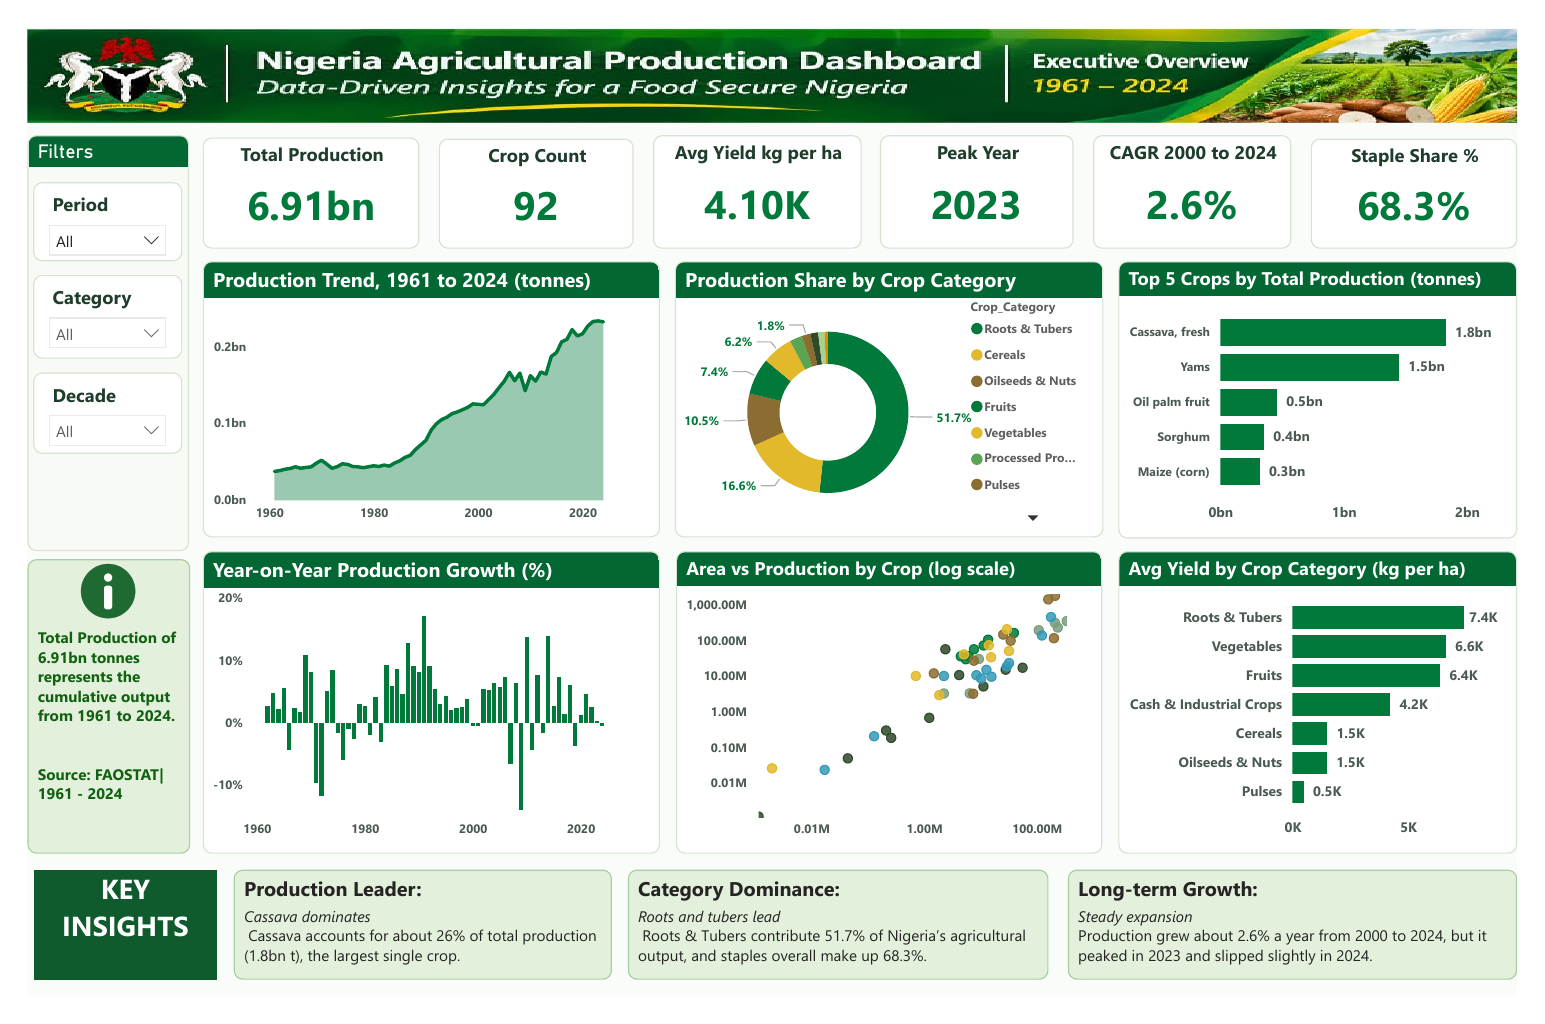

The dashboard page shown, as its layout file describes it:
{"tool":"powerbi","page":{"name":"Executive Overview","canvas":[1300,845],"ordinal":0},"visuals":[{"type":"card","title":"Total Production","fields":{"Values":["_Measures.Total Production"]},"box":[152.7,95.5,189.3,97],"z":0},{"type":"card","title":"Crop Count","fields":{"Values":["_Measures.Crop Count"]},"box":[358.9,97.1,170.2,95.4],"z":1000},{"type":"card","title":"Avg Yield kg per ha","fields":{"Values":["_Measures.Avg Yield kg per ha"]},"box":[546,93.5,181.5,99],"z":2000},{"type":"card","title":"Peak Year","fields":{"Values":["_Measures.Peak Year"]},"box":[744.5,93.9,168.6,98.6],"z":3000},{"type":"card","title":"Staple Share %","fields":{"Values":["_Measures.Staple Share %"]},"box":[1120.3,97.2,179.7,95.3],"z":4000},{"type":"card","title":"CAGR 2000 to 2024","fields":{"Values":["_Measures.Production CAGR 2000 to 2024"]},"box":[930,93.9,173.4,98.6],"z":5000},{"type":"clusteredBarChart","title":"Top 5 Crops by Total Production (tonnes)","fields":{"Y":["_Measures.Total Production"],"Category":["Dim_item.Item"]},"box":[951.6,203.5,348.4,242],"z":6000},{"type":"donutChart","title":"Production Share by Crop Category","fields":{"Category":["Dim_item.Crop_Category"],"Y":["_Measures.Total Production"]},"box":[564.9,203.5,373.8,241.8],"z":7000},{"type":"clusteredBarChart","title":"Avg Yield by Crop Category (kg per ha)","fields":{"Category":["Dim_item.Crop_Category"],"Y":["_Measures.Avg Yield kg per ha"]},"box":[951.6,456.5,348.4,264],"z":8000},{"type":"scatterChart","title":"Area vs Production by Crop (log scale)","fields":{"X":["_Measures.Total Area Harvested"],"Y":["_Measures.Total Production"],"Series":["Dim_item.Crop_Category"],"Category":["Dim_item.Item"]},"box":[565.7,456.5,372.2,264],"z":9000},{"type":"clusteredColumnChart","title":"Year-on-Year Production Growth (%)","fields":{"Category":["Dim_Year.Year"],"Y":["_Measures.YoY Growth %"]},"box":[152.7,456.5,399.2,264],"z":10000},{"type":"areaChart","title":"Production Trend, 1961 to 2024 (tonnes)","fields":{"Category":["Dim_Year.Year"],"Y":["_Measures.Total Production"]},"box":[152.7,203.5,399.2,241.8],"z":11000},{"type":"image","box":[0,0,1300,82.5],"z":12000},{"type":"textbox","title":"Filters","box":[0,93.5,141.2,363.1],"z":13000},{"type":"slicer","fields":{"Values":["Dim_Year.Decade"]},"box":[4.8,300.6,130.4,71.6],"z":14000},{"type":"textbox","title":"<svg xmlns=\"http://www.w3.org/2000/svg\" width=\"128\" height=\"128\" viewBox=\"0 0 128 128\" xmlns:c2pa=\"http://c2pa.org/manifest\">   <circle cx=\"64\" cy=\"64\" r=\"60\" fill=\"#1F6B33\"/>   <circle cx=\"64\" cy=\"34","box":[0,464.5,141.6,256.1],"z":15000},{"type":"slicer","fields":{"Values":["Fact_Production.Period"]},"box":[4.8,135.2,130.4,68.4],"z":16000},{"type":"slicer","fields":{"Values":["Dim_item.Crop_Category"]},"box":[4.8,216.3,130.4,73.2],"z":17000},{"type":"image","box":[44.5,464.5,50.9,55.7],"z":18000},{"type":"textbox","title":"KEY INSIGHTS","box":[5.5,735.3,159.5,95.3],"z":19000},{"type":"textbox","title":"Production Leader:","box":[179.7,735.3,330.1,95.3],"z":20000},{"type":"textbox","title":"Category Dominance:","box":[524.4,735.3,366.7,95.3],"z":21000},{"type":"textbox","title":"Long-term Growth:","box":[907.6,735.3,392.4,95.3],"z":22000}]}

Visuals, with their boxes in screenshot pixels (x1, y1, x2, y2), scaled from the page's 1300x845 canvas onto the 1545x1024 screenshot:
"Total Production" card: left=181, top=116, right=406, bottom=233
"Crop Count" card: left=427, top=118, right=629, bottom=233
"Avg Yield kg per ha" card: left=649, top=113, right=865, bottom=233
"Peak Year" card: left=885, top=114, right=1085, bottom=233
"Staple Share %" card: left=1331, top=118, right=1544, bottom=233
"CAGR 2000 to 2024" card: left=1105, top=114, right=1311, bottom=233
"Top 5 Crops by Total Production (tonnes)" clusteredBarChart: left=1131, top=247, right=1544, bottom=540
"Production Share by Crop Category" donutChart: left=671, top=247, right=1116, bottom=540
"Avg Yield by Crop Category (kg per ha)" clusteredBarChart: left=1131, top=553, right=1544, bottom=873
"Area vs Production by Crop (log scale)" scatterChart: left=672, top=553, right=1115, bottom=873
"Year-on-Year Production Growth (%)" clusteredColumnChart: left=181, top=553, right=656, bottom=873
"Production Trend, 1961 to 2024 (tonnes)" areaChart: left=181, top=247, right=656, bottom=540
image: left=0, top=0, right=1544, bottom=100
"Filters" textbox: left=0, top=113, right=168, bottom=553
slicer - Dim_Year.Decade: left=6, top=364, right=161, bottom=451
"<svg xmlns="http://www.w3.org/2000/svg" width="128" height="128" viewBox="0 0 128 128" xmlns:c2pa="http://c2pa.org/manifest">   <circle cx="64" cy="64" r="60" fill="#1F6B33"/>   <circle cx="64" cy="34" textbox: left=0, top=563, right=168, bottom=873
slicer - Fact_Production.Period: left=6, top=164, right=161, bottom=247
slicer - Dim_item.Crop_Category: left=6, top=262, right=161, bottom=351
image: left=53, top=563, right=113, bottom=630
"KEY INSIGHTS" textbox: left=7, top=891, right=196, bottom=1007
"Production Leader:" textbox: left=214, top=891, right=606, bottom=1007
"Category Dominance:" textbox: left=623, top=891, right=1059, bottom=1007
"Long-term Growth:" textbox: left=1079, top=891, right=1544, bottom=1007
